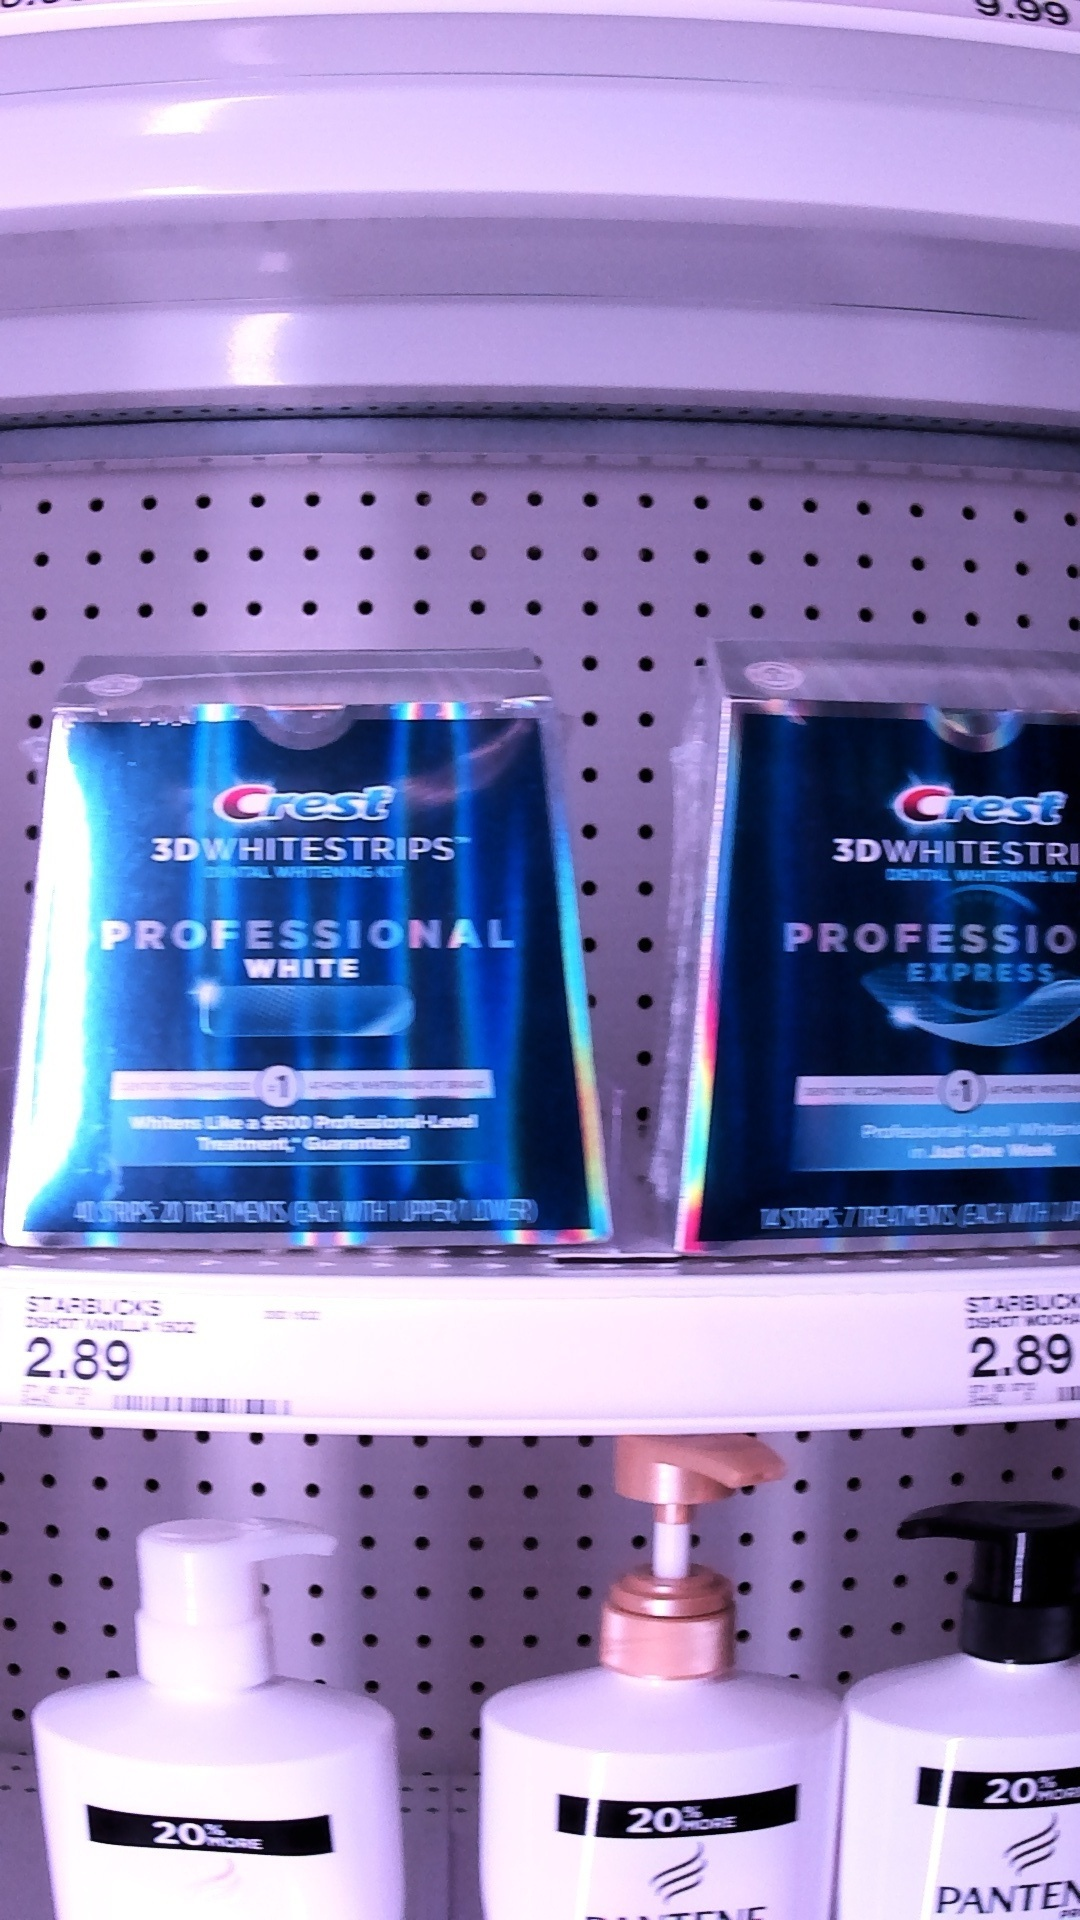ptag: (18, 1276, 313, 1425), (955, 1266, 1080, 1414)
